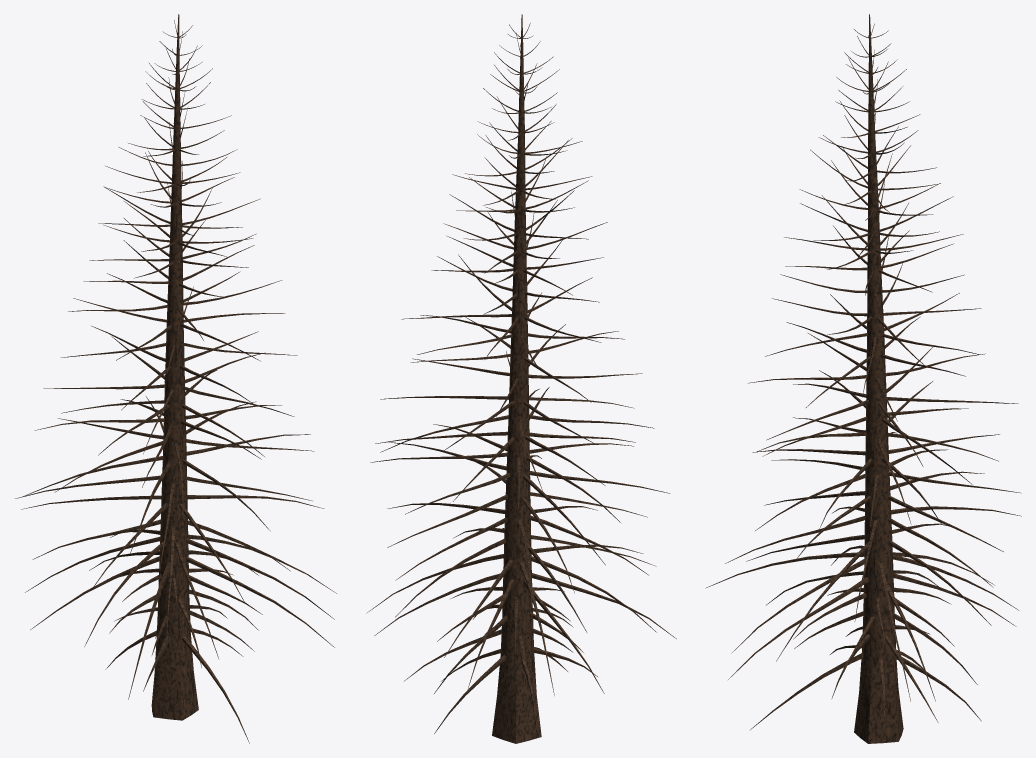
The model's file is SM_Tree_Pine_B_Bark.glb.
The picture shows the model from 3 angles, left to right: view 1: azimuth 30°, elevation 25°; view 2: azimuth 150°, elevation 25°; view 3: azimuth 270°, elevation 25°; orthographic projection. The views are drawn at different scales.
Visible parts, largest first — view 1: SM_Tree_Pine_B_Bark; view 2: SM_Tree_Pine_B_Bark; view 3: SM_Tree_Pine_B_Bark.
Boxes of the visible parts, <box> form: SM_Tree_Pine_B_Bark: <box>15,14,336,743</box>; SM_Tree_Pine_B_Bark: <box>366,14,676,743</box>; SM_Tree_Pine_B_Bark: <box>705,14,1021,743</box>.
Bounding box in the file's own units: 7.38 × 19.02 × 7.59.
Materials: 1 (1 with a texture image).
